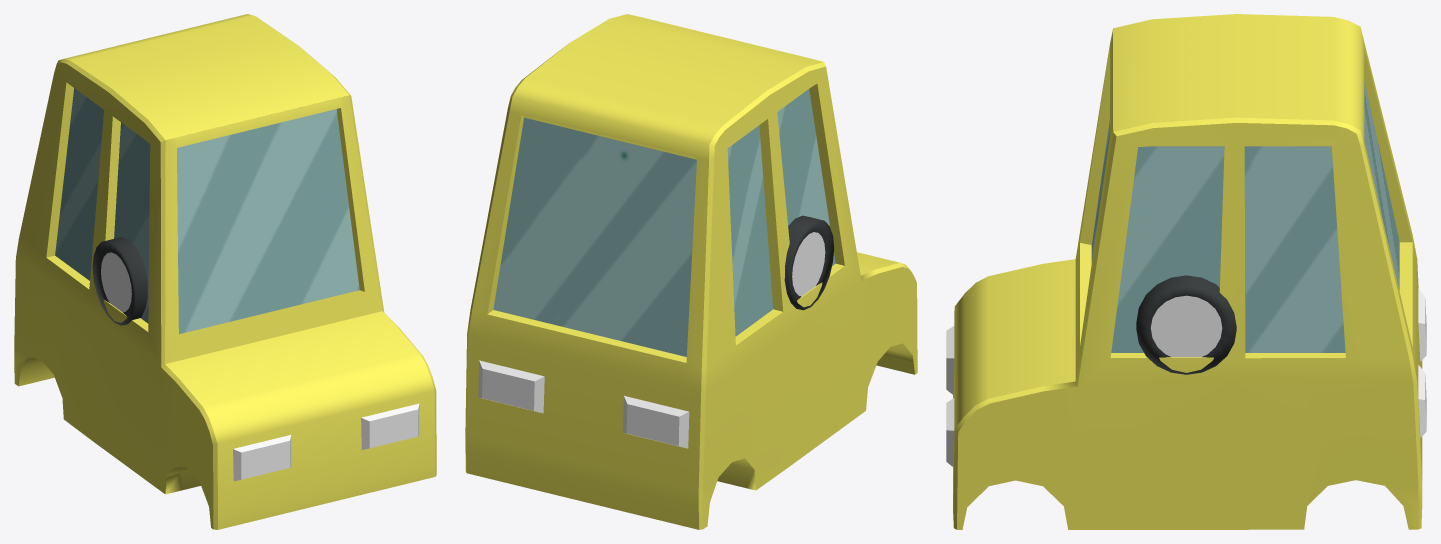
The model's file is car_2_Y.fbx.
3 renders of one model, left to right at view 1: azimuth 30°, elevation 25°; view 2: azimuth 150°, elevation 25°; view 3: azimuth 270°, elevation 25°, orthographic. The views are drawn at different scales.
Parts seen in each view (by area): view 1: car_2_chasis_Y, car_2_right_wheel_Y, car_2_back_wheel_Y; view 2: car_2_chasis_Y, car_2_right_wheel_Y, car_2_back_wheel_Y; view 3: car_2_chasis_Y, car_2_left_wheel_Y, car_2_back_wheel_Y.
Part boxes in pixels (bbox=[...]): car_2_chasis_Y: bbox=[14, 14, 436, 529]; car_2_right_wheel_Y: bbox=[92, 241, 147, 324]; car_2_back_wheel_Y: bbox=[92, 237, 147, 325]; car_2_chasis_Y: bbox=[465, 14, 917, 529]; car_2_right_wheel_Y: bbox=[785, 219, 834, 308]; car_2_back_wheel_Y: bbox=[784, 215, 833, 310]; car_2_chasis_Y: bbox=[946, 14, 1426, 529]; car_2_left_wheel_Y: bbox=[1136, 283, 1236, 372]; car_2_back_wheel_Y: bbox=[1136, 275, 1236, 374].
Size of the model in its own units: 80.78 by 120 by 130.
